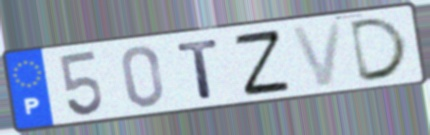0: (118, 44, 166, 110)
5: (56, 49, 105, 118)
D: (348, 14, 413, 85)
T: (175, 36, 223, 101)
V: (288, 19, 346, 90)
Z: (230, 27, 293, 99)
